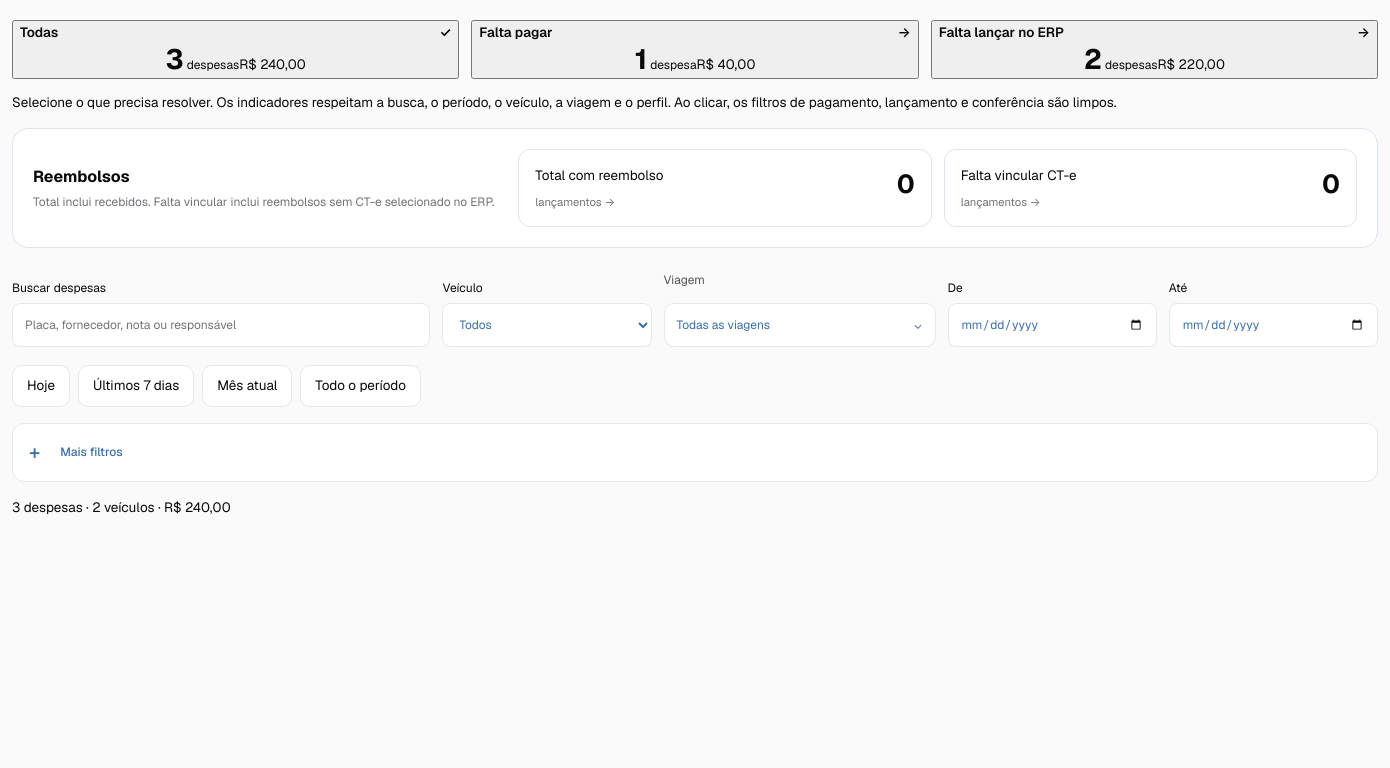
Test case: cartoes trocam a pendencia sem acumular filtros e preservam busca e periodo
Step 1. Type "ABC" into the search field labelled "Buscar despesas" → [221, 326], box 12,304 -> 430,348
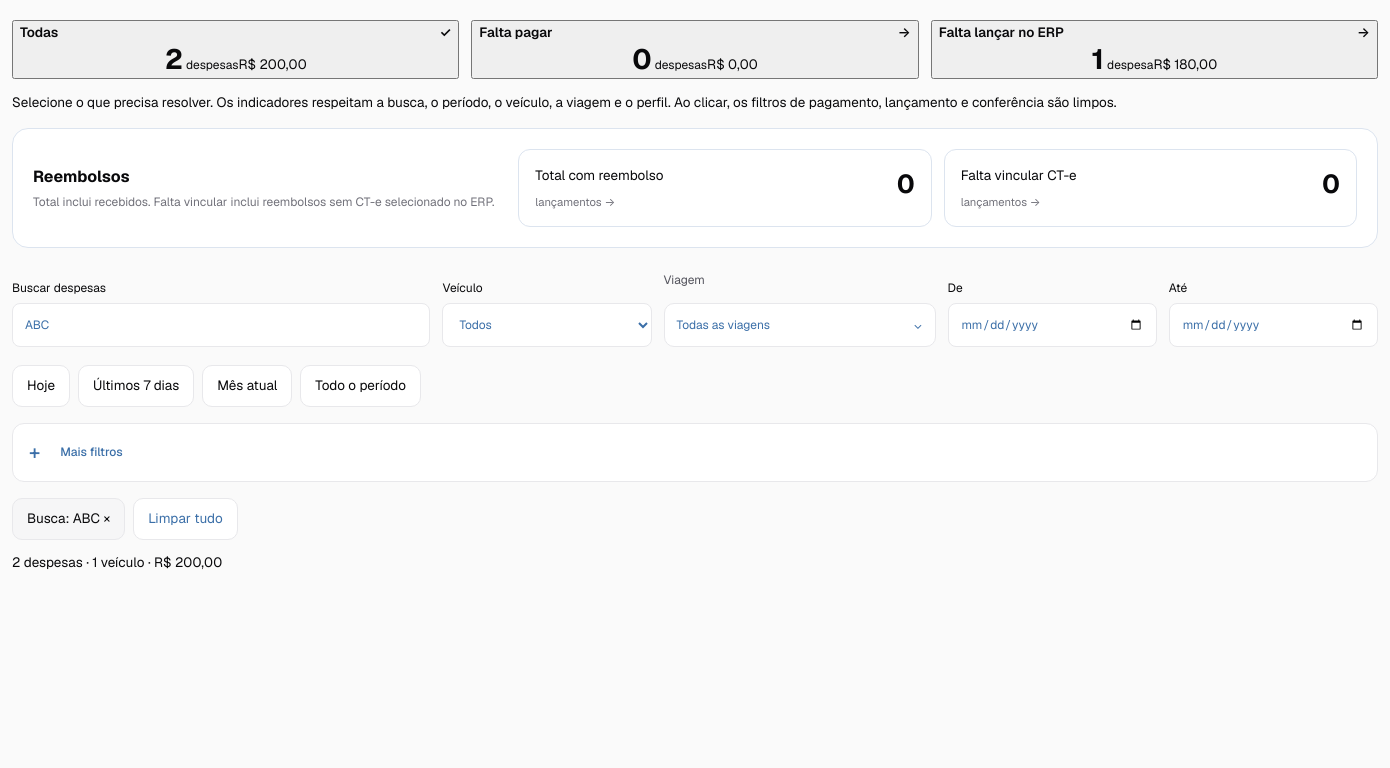
Step 2. Click the button "Hoje" → [41, 386], box 12,366 -> 70,407
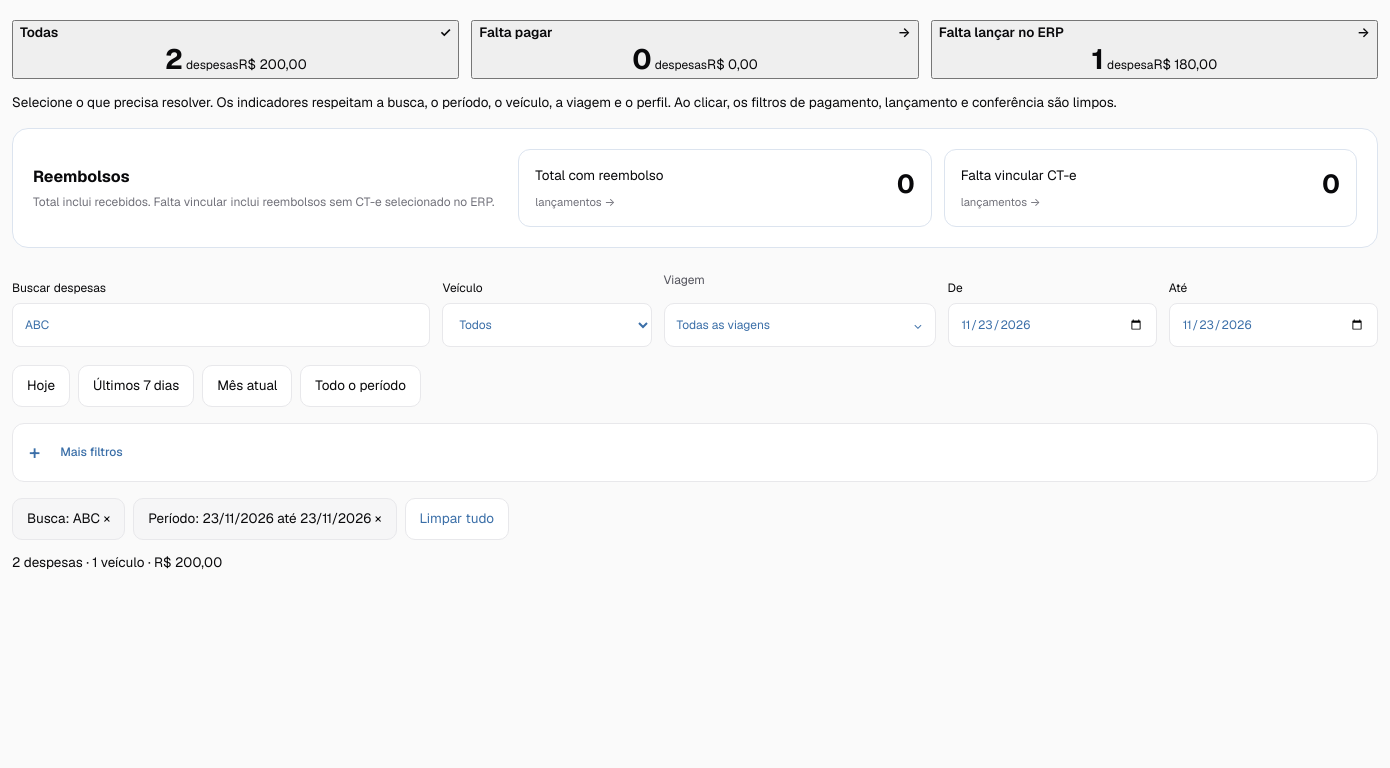
Expected: the button "Todas" shows "2", 12,20 -> 459,79
Step 3. Click the button "Falta pagar" → [516, 32], box 471,20 -> 919,79
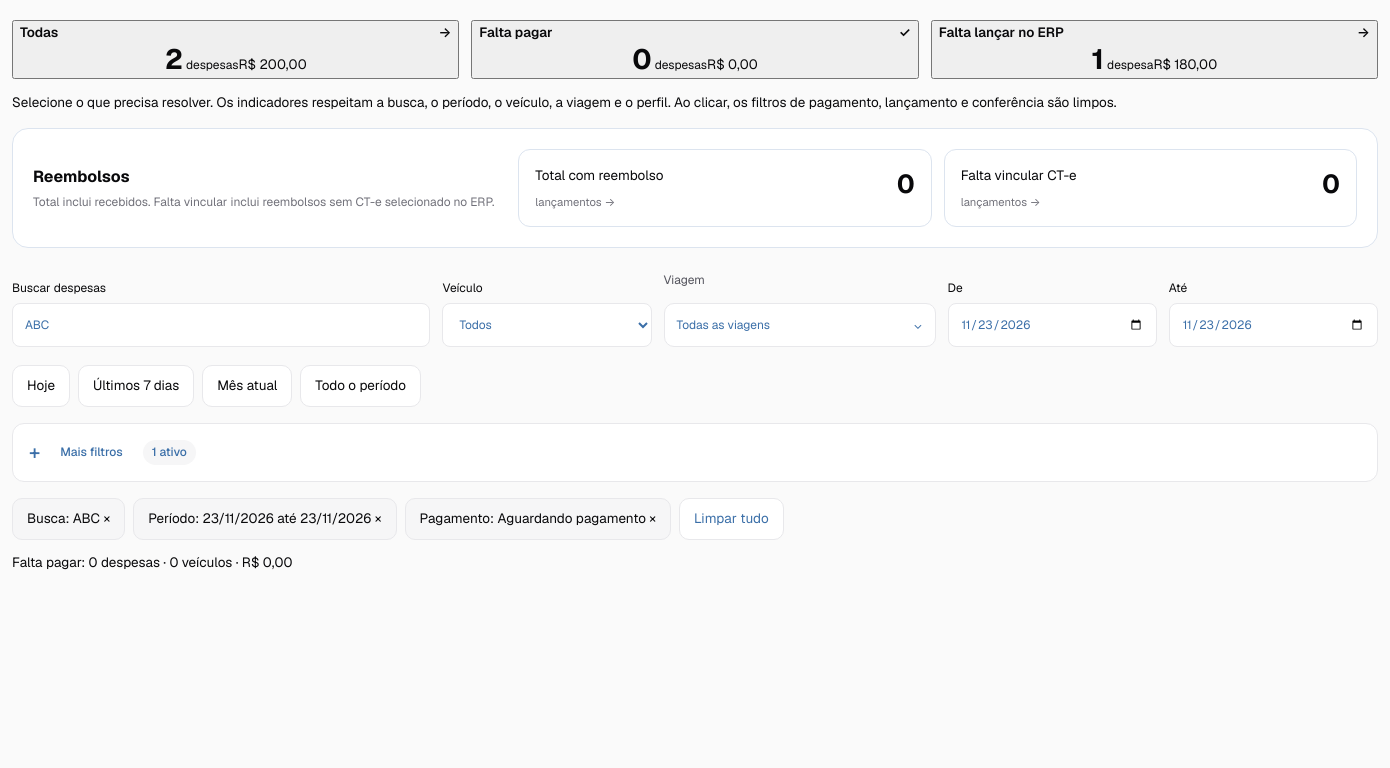
Expected: the message shows "0 despesas", 12,553 -> 292,571
Step 4. Click the button "Falta lançar no ERP" → [1001, 32], box 931,20 -> 1378,79
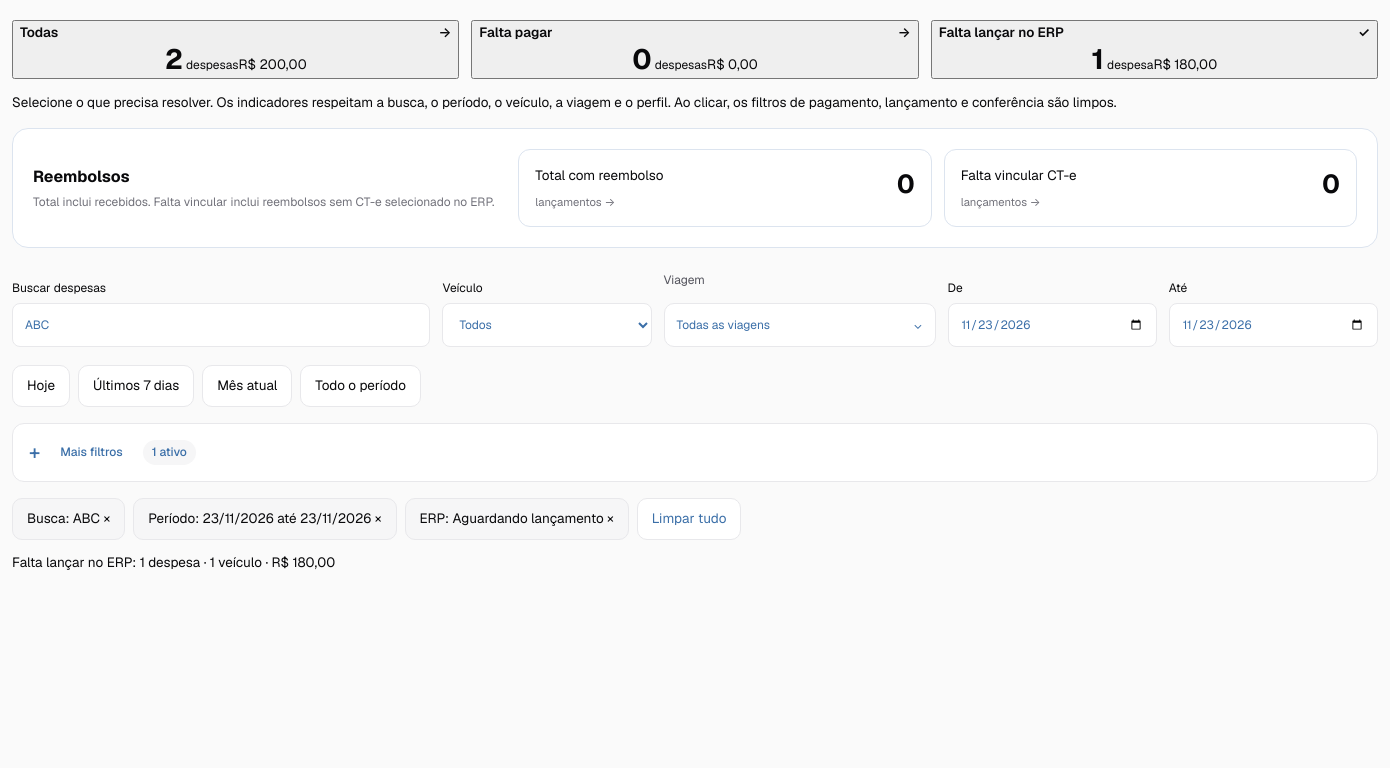
Expected: the message shows "1 despesa", 12,553 -> 335,571
Step 5. Click the button "Todas" → [39, 32], box 12,20 -> 459,79
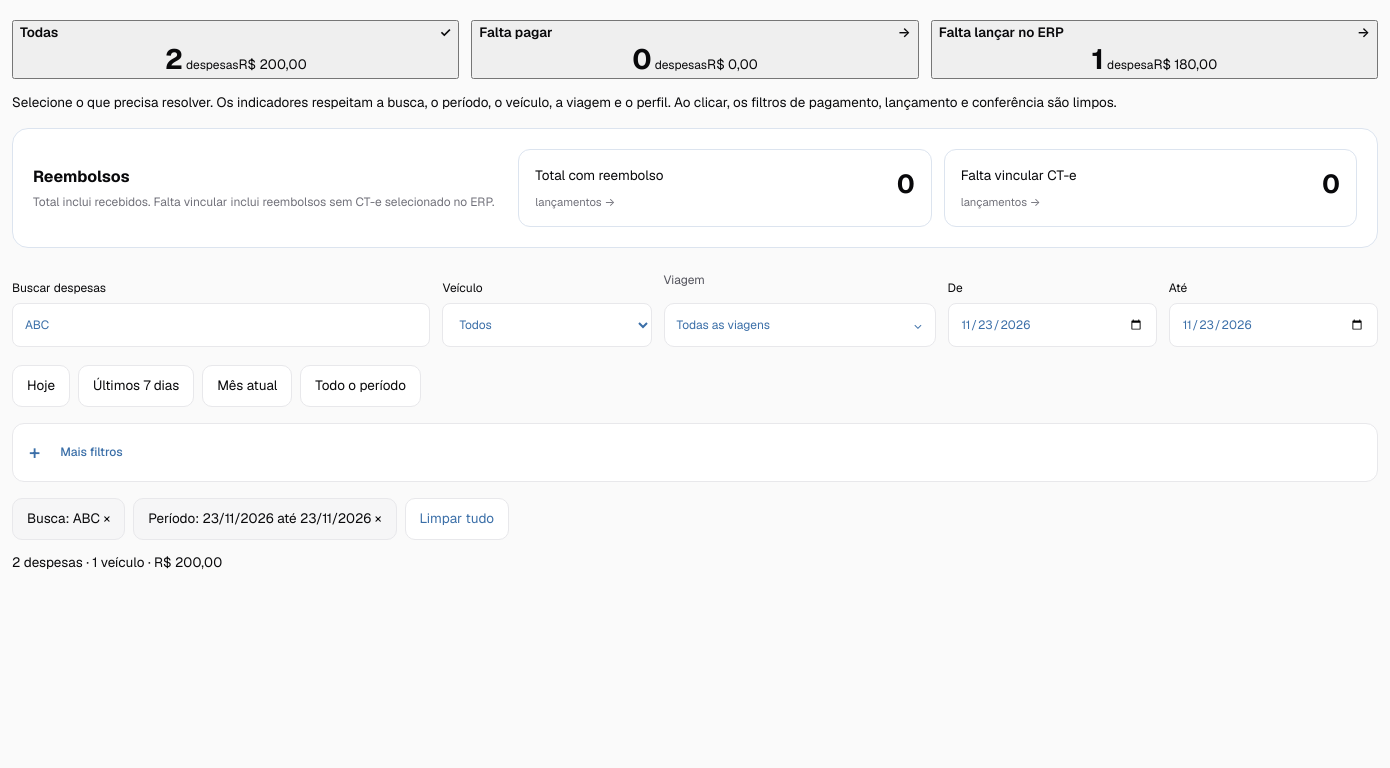
Expected: the date field labelled "De" holds "2026-11-23", 948,304 -> 1157,348
Expected: the message shows "2 despesas", 12,553 -> 222,571
